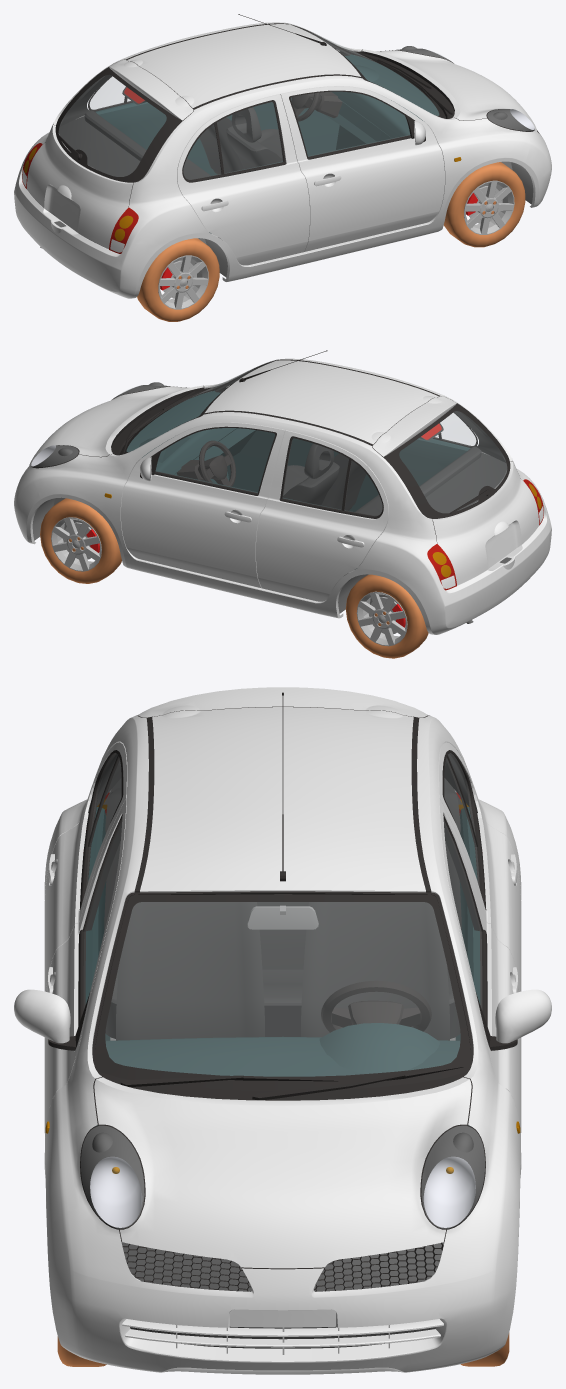
File: SEDAN27.obj
3 renders of one model, top to bottom at view 1: azimuth 30°, elevation 25°; view 2: azimuth 150°, elevation 25°; view 3: azimuth 270°, elevation 25°, orthographic. The views are drawn at different scales.
Visible parts, largest first — view 1: 27; view 2: 27; view 3: 27.
Part boxes in pixels (x1,y1,x2,y2): 27: [14, 14, 551, 321]; 27: [14, 350, 551, 658]; 27: [14, 687, 551, 1374].
Bounding box in the file's own units: 2.99 × 1.48 × 1.51.
